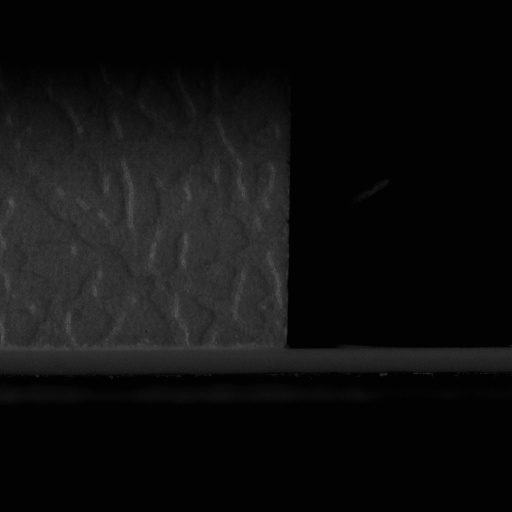changdai: (282, 342, 508, 374)
